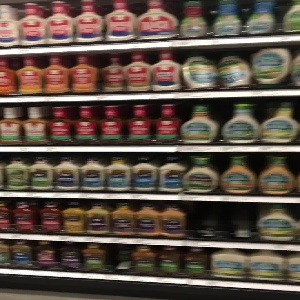void: (184, 201, 260, 243), (107, 244, 134, 273)
